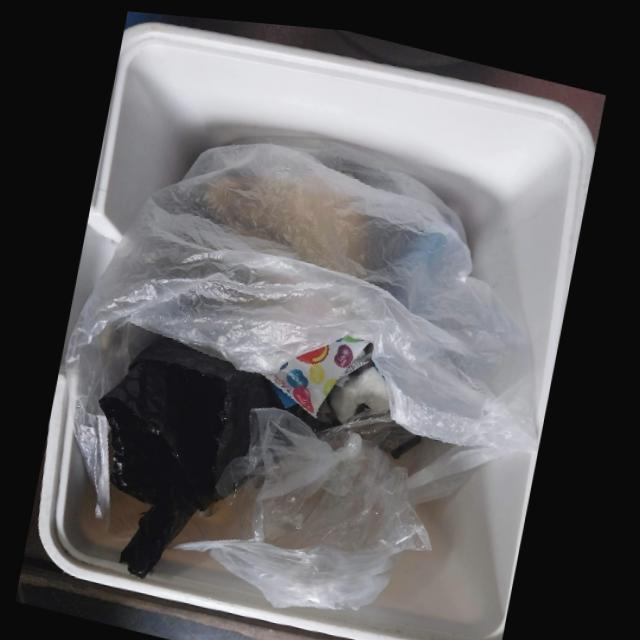plastic: (68, 134, 542, 602), (101, 333, 287, 575)
wrapper: (274, 329, 371, 412)
